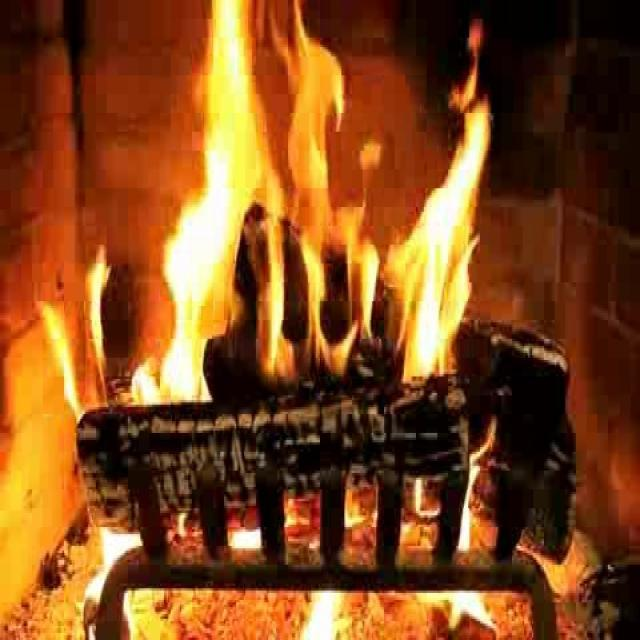Fire: (153, 7, 514, 422)
